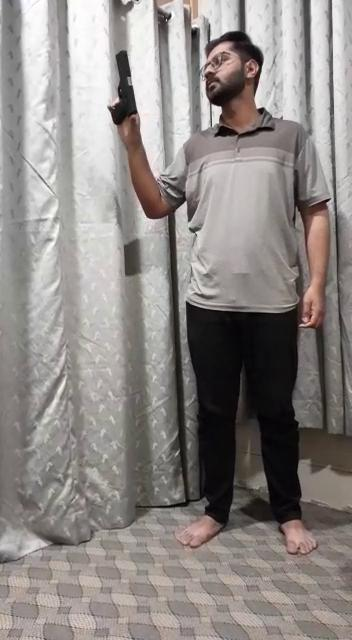criminal: (106, 29, 331, 557)
weapon: (106, 49, 145, 126)
